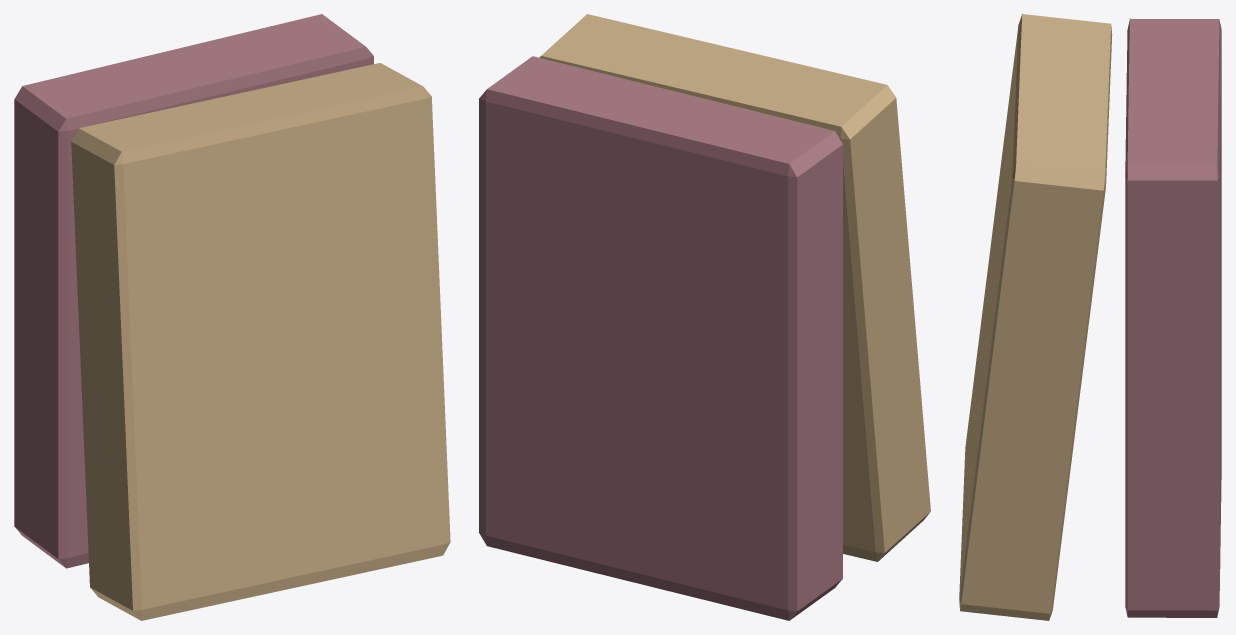
File: cajas.fbx
3 views of the same model, side by side, from view 1: azimuth 30°, elevation 25°; view 2: azimuth 150°, elevation 25°; view 3: azimuth 270°, elevation 25° (orthographic).
Visible parts, largest first — view 1: Cube, Cube.001; view 2: Cube.001, Cube; view 3: Cube, Cube.001.
Part boxes in pixels (left/top/right/bottom): Cube: left=71, top=63, right=450, bottom=620; Cube.001: left=14, top=14, right=373, bottom=568; Cube.001: left=479, top=56, right=842, bottom=620; Cube: left=539, top=14, right=930, bottom=561; Cube: left=959, top=14, right=1112, bottom=620; Cube.001: left=1125, top=18, right=1221, bottom=617.
Size of the model in its own units: 39.52 by 77.01 by 56.48.
